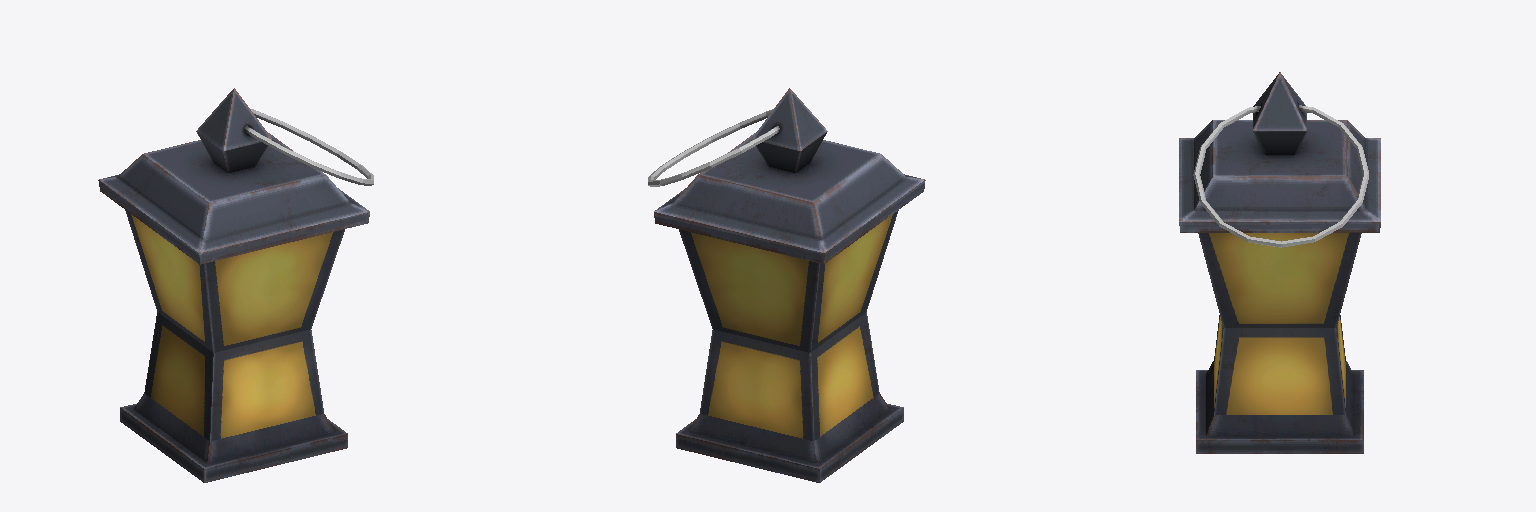
3 views of the same model, side by side, from view 1: azimuth 30°, elevation 25°; view 2: azimuth 150°, elevation 25°; view 3: azimuth 270°, elevation 25° (orthographic).
Visible parts, largest first — view 1: Model_Graveyard_Lantern_01; view 2: Model_Graveyard_Lantern_01; view 3: Model_Graveyard_Lantern_01.
Part boxes in pixels (left/top/right/bottom): Model_Graveyard_Lantern_01: left=98, top=88, right=373, bottom=482; Model_Graveyard_Lantern_01: left=648, top=88, right=925, bottom=482; Model_Graveyard_Lantern_01: left=1179, top=72, right=1380, bottom=453.
Bounding box in the file's own units: 0.4059 × 0.6283 × 0.331.
1 materials, 1 textured.